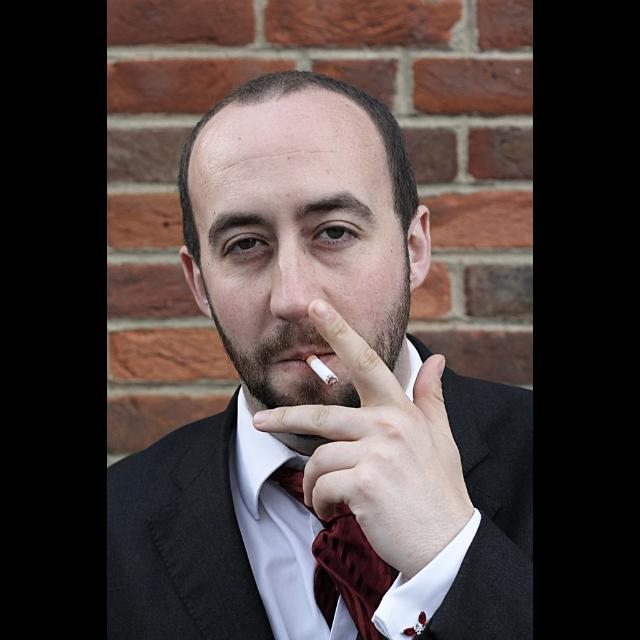rokok: (303, 351, 343, 389)
